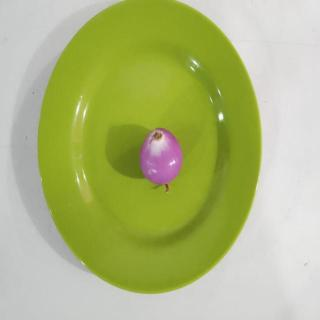Bawang Merah: (140, 126, 185, 194)
